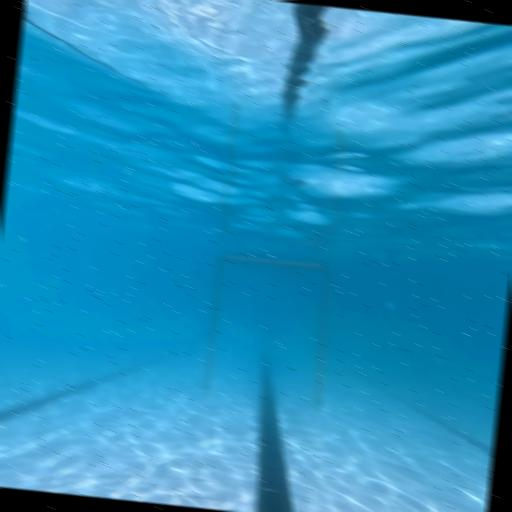gate: (203, 255, 338, 411)
